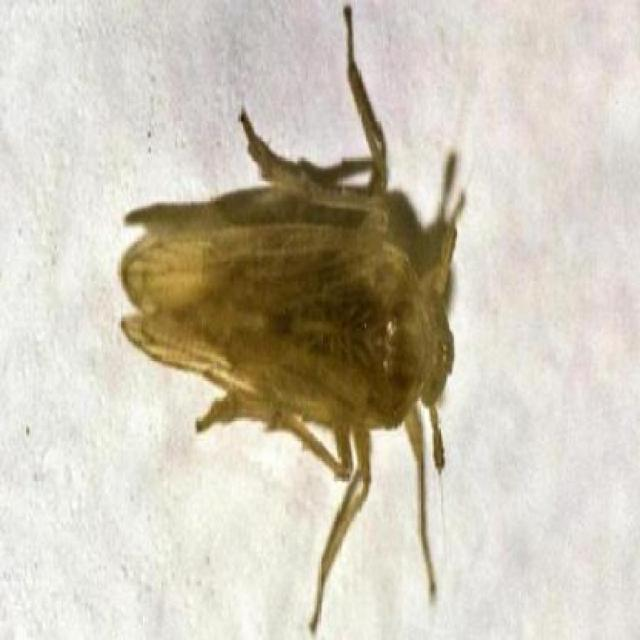brown-planthopper: (117, 139, 463, 484)
